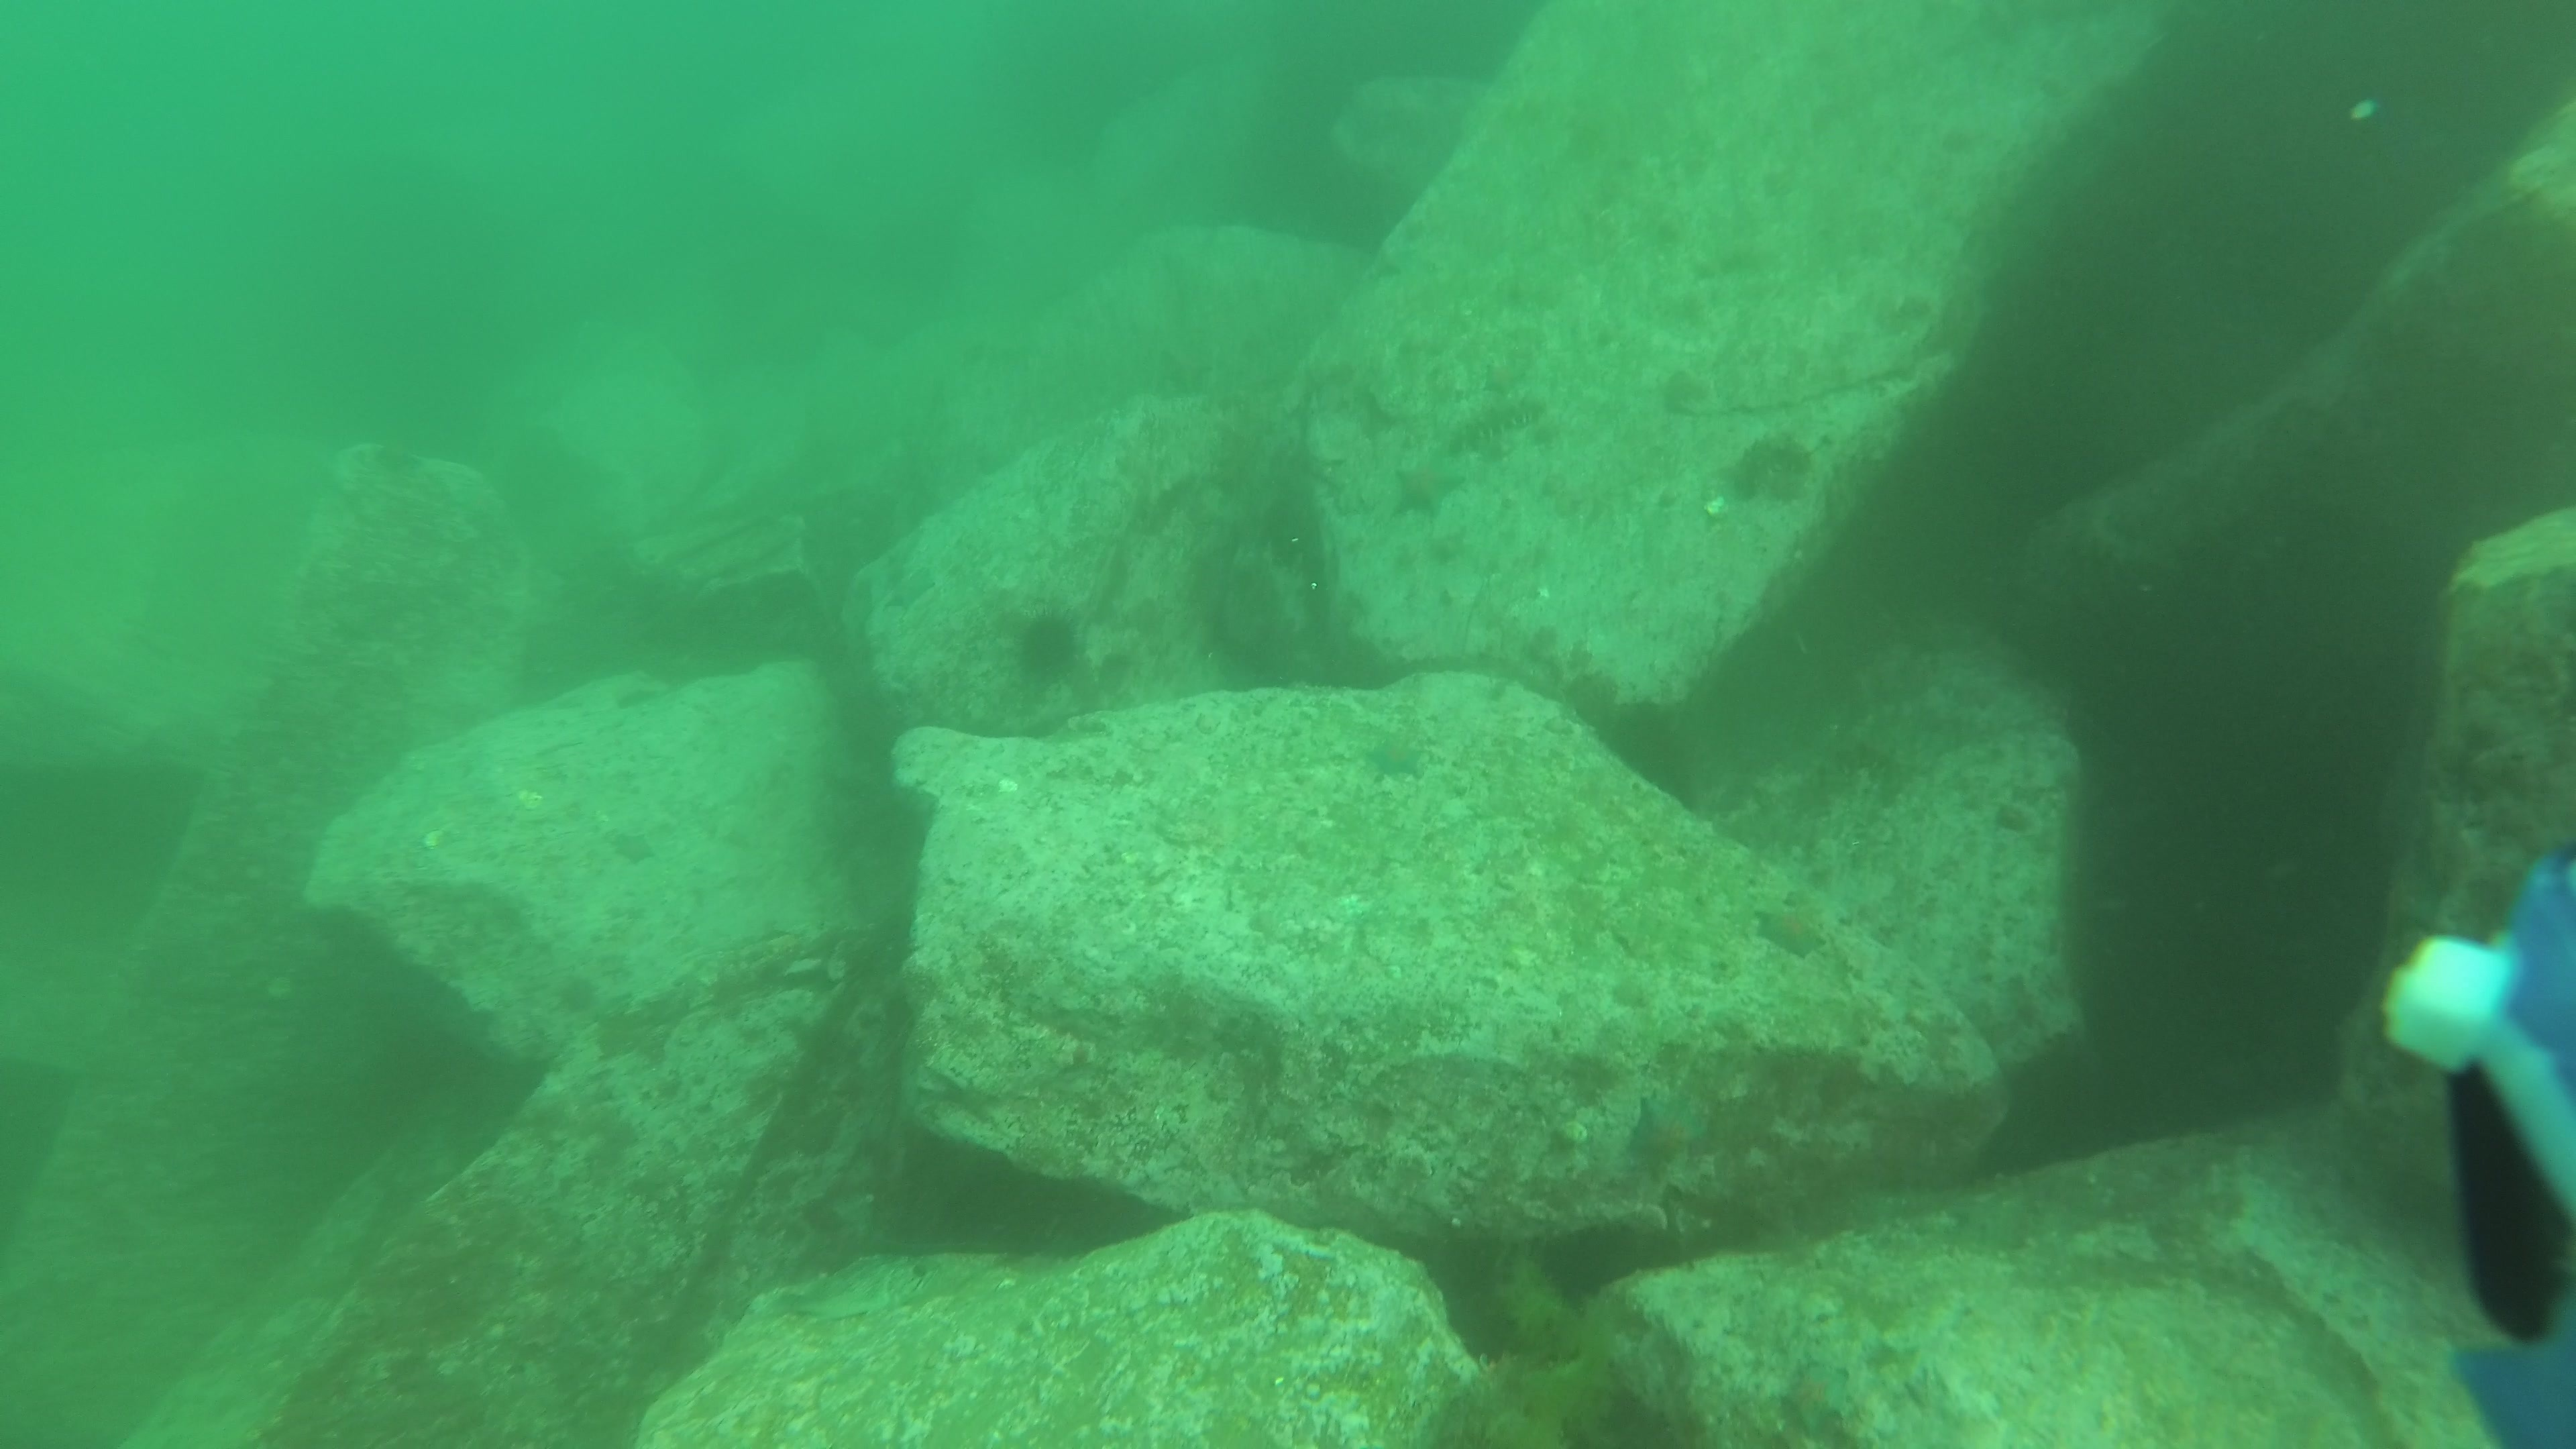echinus: (1008, 603, 1097, 690)
holothurian: (1444, 396, 1550, 460), (1729, 425, 1819, 495)
starfish: (1775, 1353, 1863, 1442), (1387, 453, 1468, 525), (1752, 902, 1829, 966), (1361, 729, 1433, 784), (603, 828, 663, 867), (1477, 356, 1527, 402), (372, 441, 425, 479)
